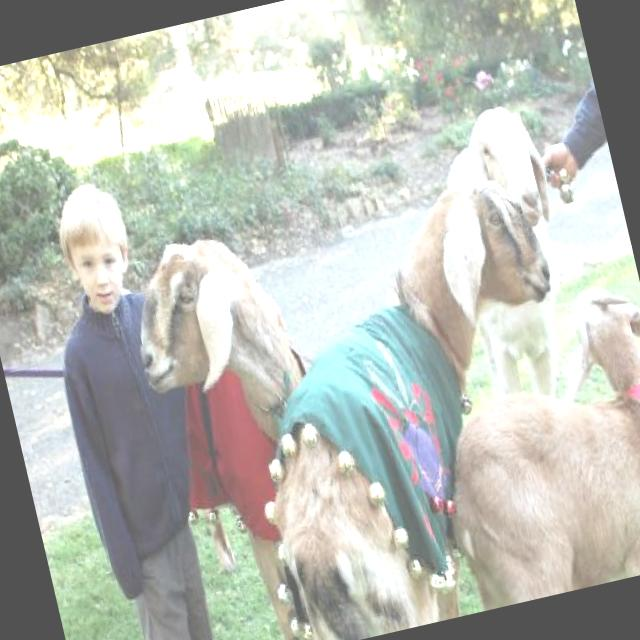Person: (19, 171, 254, 640)
